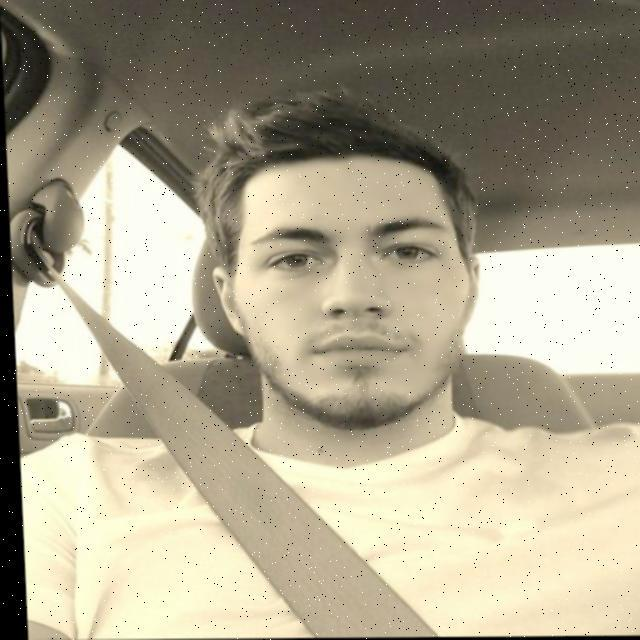seatbelt: (19, 371, 640, 640)
